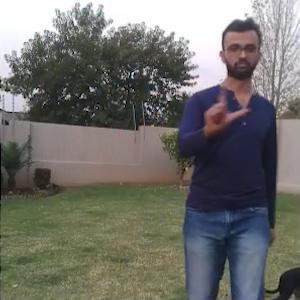land_hand: (195, 71, 253, 131)
